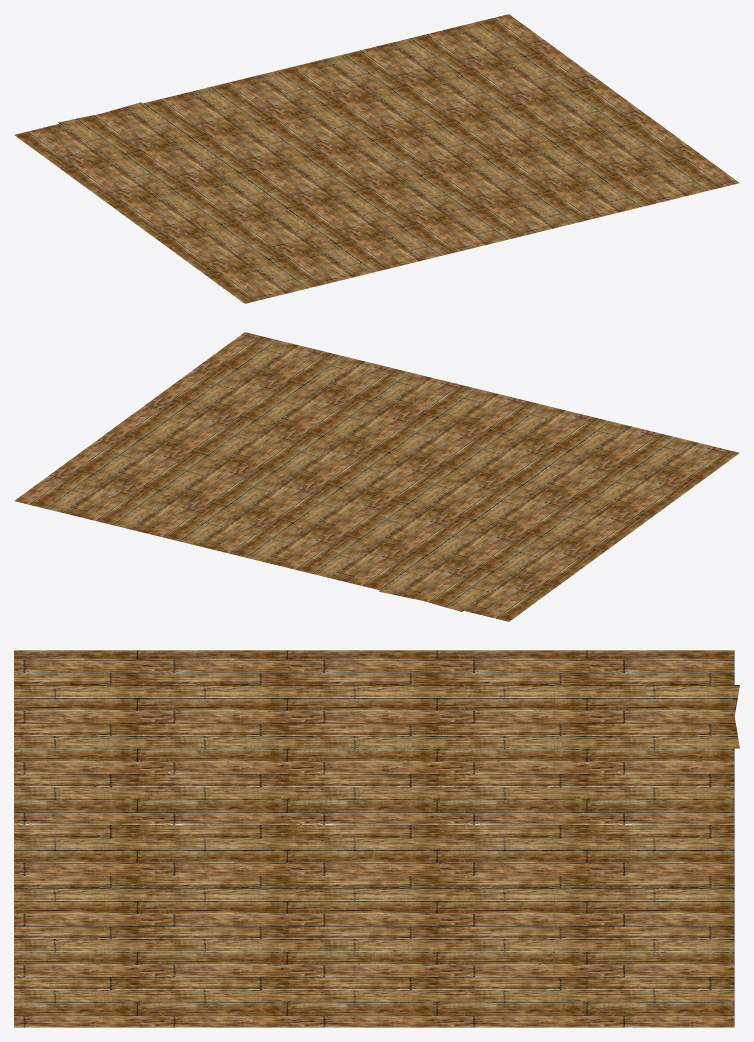
Rendered from LAKETOWN_WAREHOUSE1_PS_WH1_MAINFLOOR93938.fbx.
3 renders of one model, top to bottom at view 1: azimuth 30°, elevation 25°; view 2: azimuth 150°, elevation 25°; view 3: azimuth 270°, elevation 25°, orthographic. The views are drawn at different scales.
Visible parts, largest first — view 1: LAKETOWN_WAREHOUSE1_PS_WH1_MAINFLOOR93938; view 2: LAKETOWN_WAREHOUSE1_PS_WH1_MAINFLOOR93938; view 3: LAKETOWN_WAREHOUSE1_PS_WH1_MAINFLOOR93938.
Boxes of the visible parts, x1=… form: LAKETOWN_WAREHOUSE1_PS_WH1_MAINFLOOR93938: x1=14, y1=14, x2=739, y2=303; LAKETOWN_WAREHOUSE1_PS_WH1_MAINFLOOR93938: x1=14, y1=332, x2=739, y2=621; LAKETOWN_WAREHOUSE1_PS_WH1_MAINFLOOR93938: x1=14, y1=650, x2=739, y2=1027.
Bounding box in the file's own units: 195147 × 0.0747 × 158746.
1 material, 1 textured.
